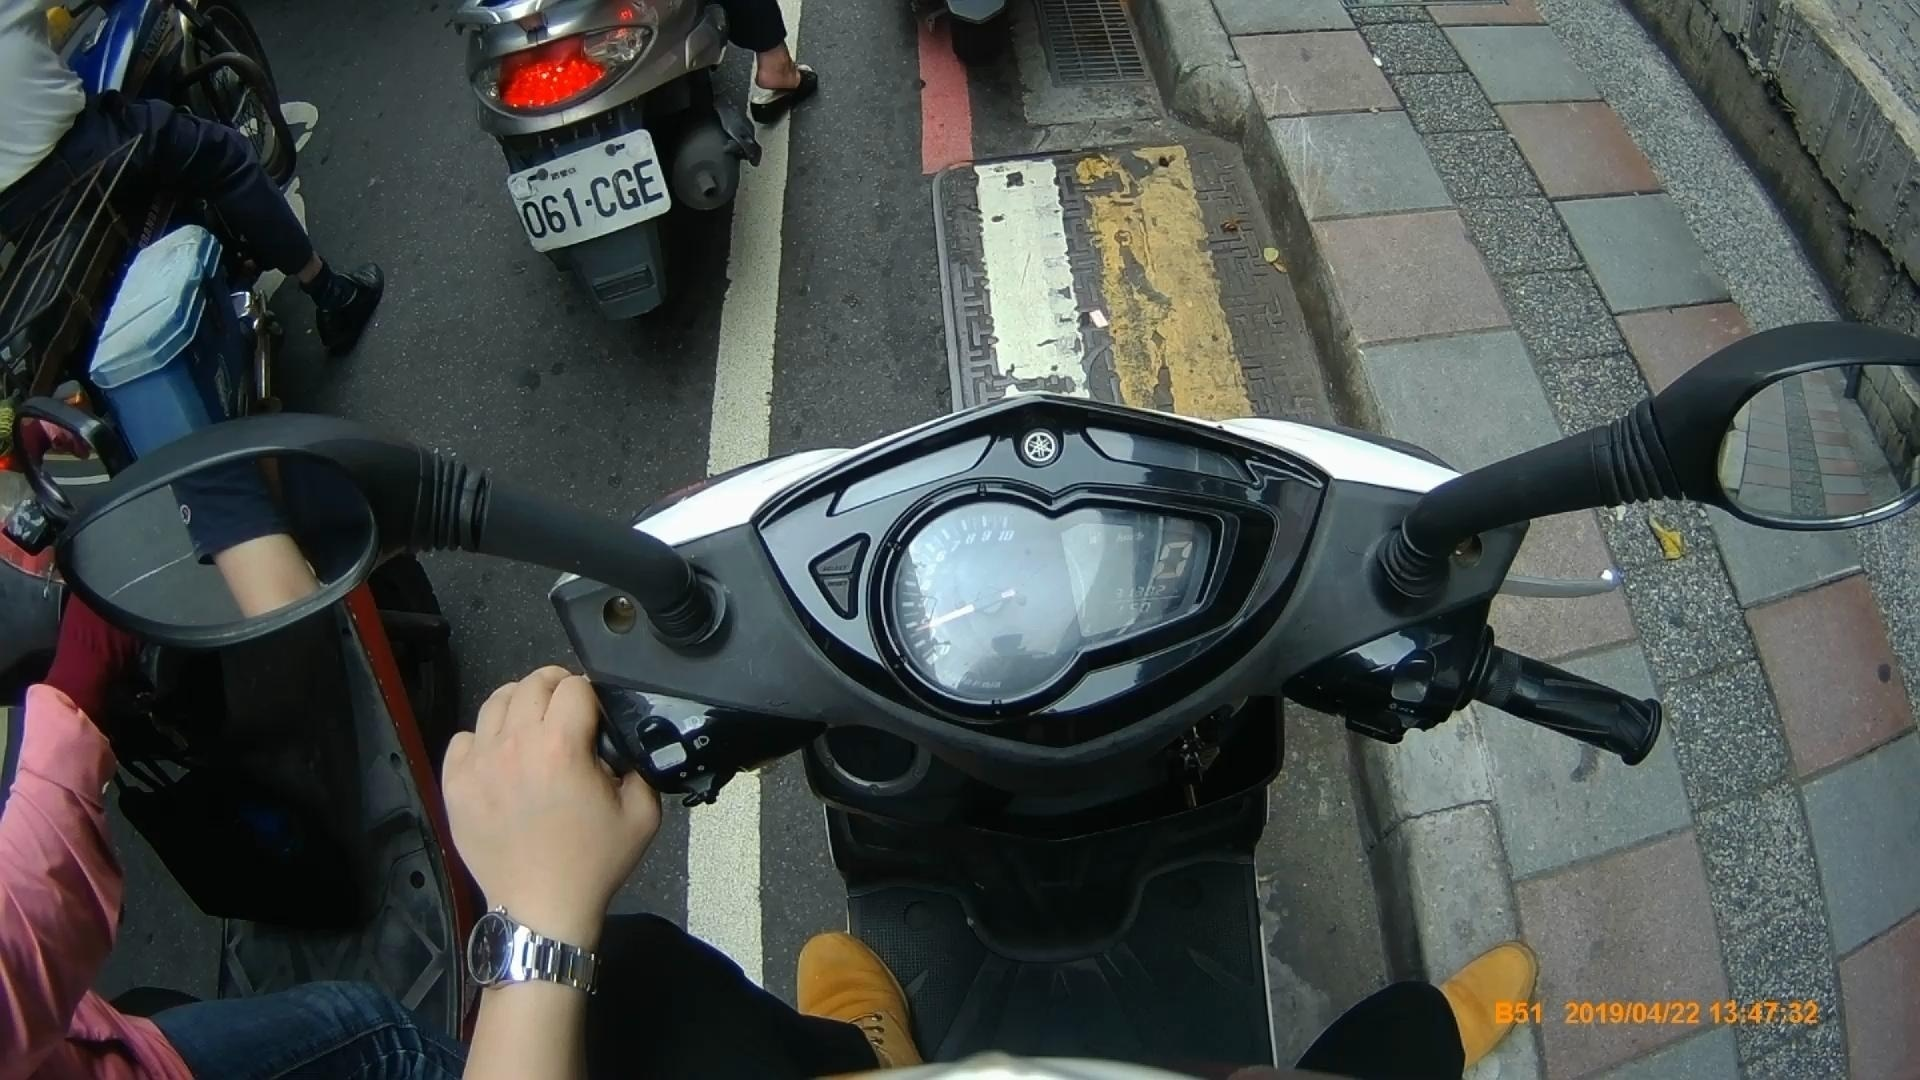License_plate: (494, 130, 680, 247)
